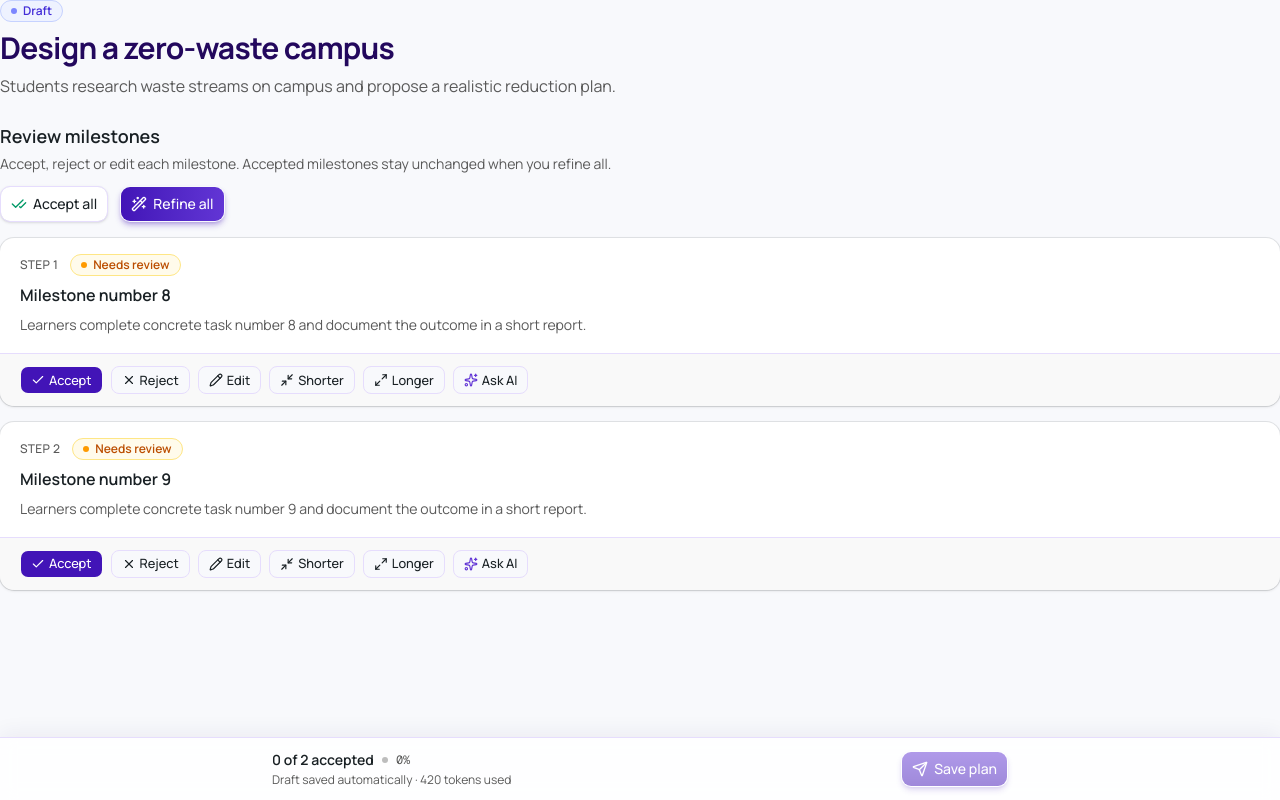
Scenario: PlanEditor › opens the refine popup next to the review heading
This screenshot has width=1280, height=800.
Click the button "Refine all": {"x": 172, "y": 204} [120,186,224,222]
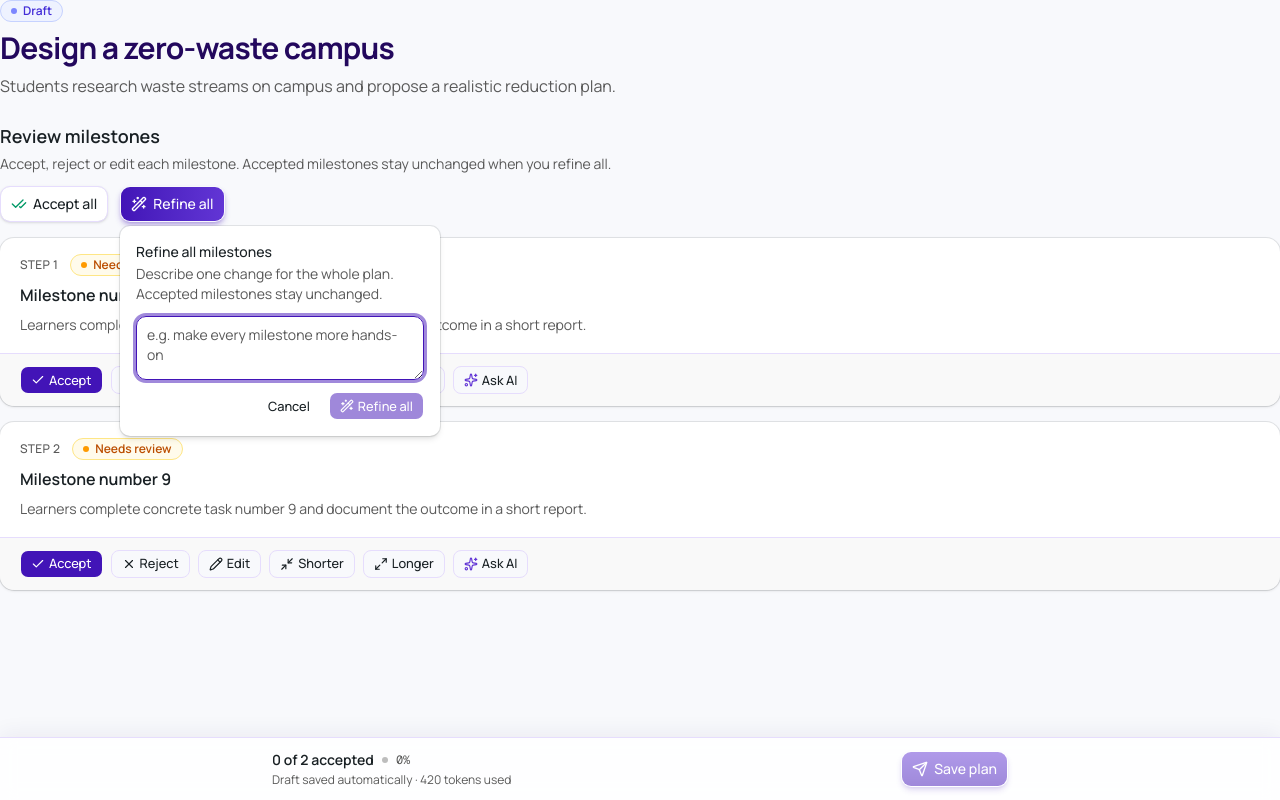
Now the button "Refine all" below "Refine all milestones" is disabled, box [329,392,424,420]
Click the button "Cancel": {"x": 289, "y": 406} [257,392,321,420]
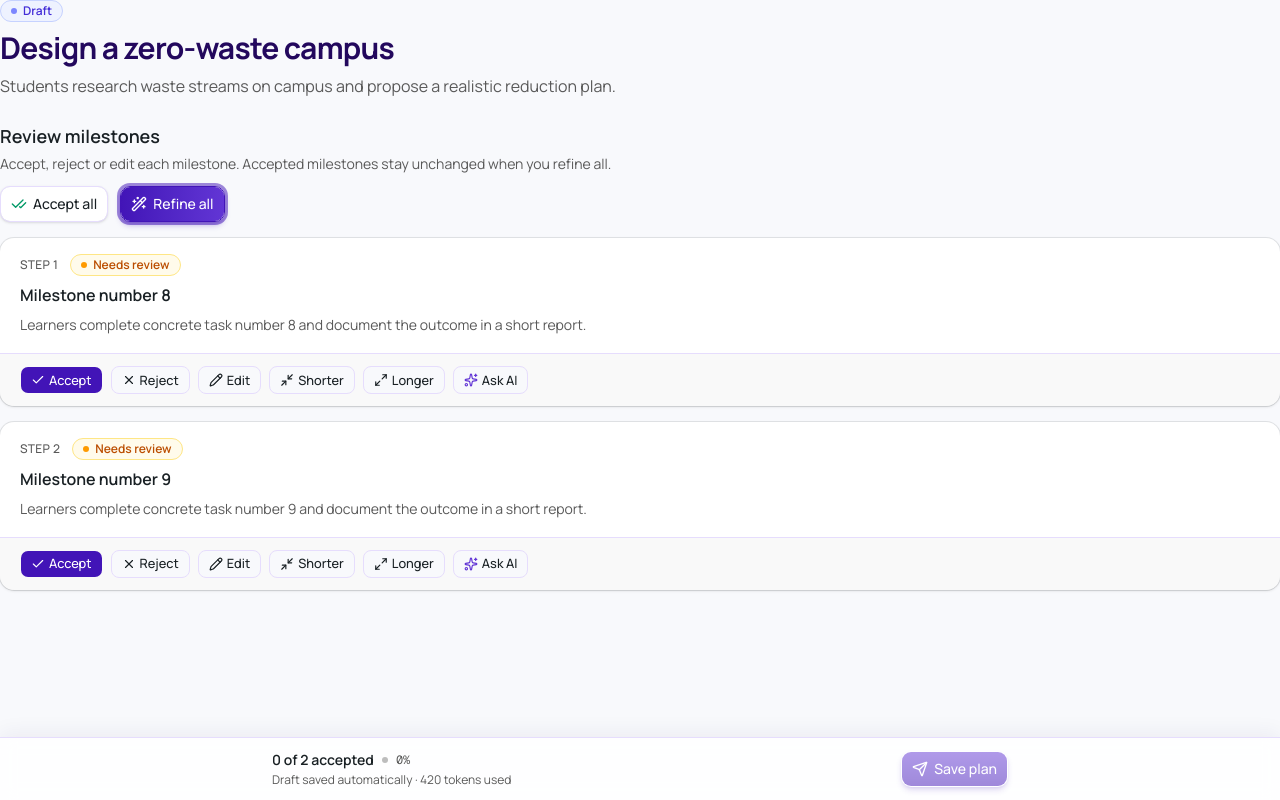
Now the dialog is gone
